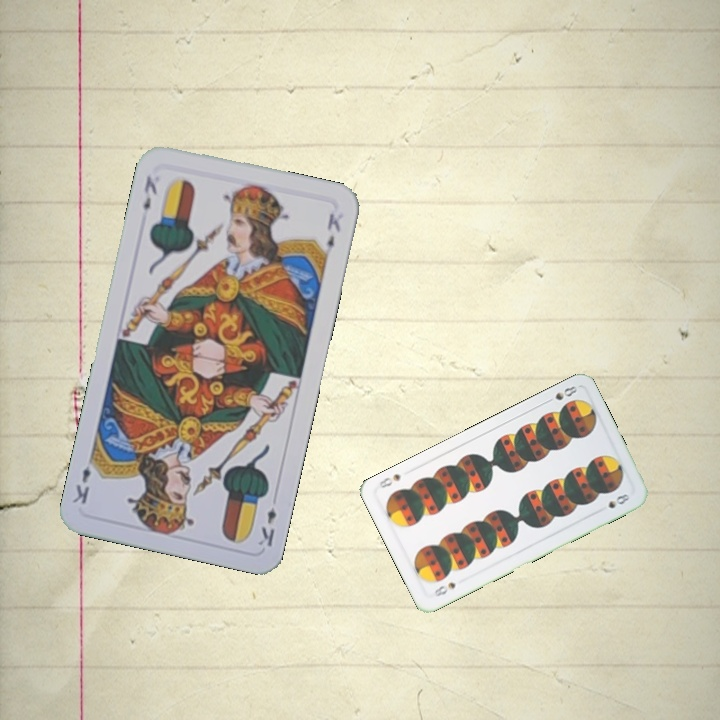EK: (254, 503, 279, 550), (139, 171, 160, 213)
S8: (541, 382, 580, 406), (430, 578, 458, 599)
